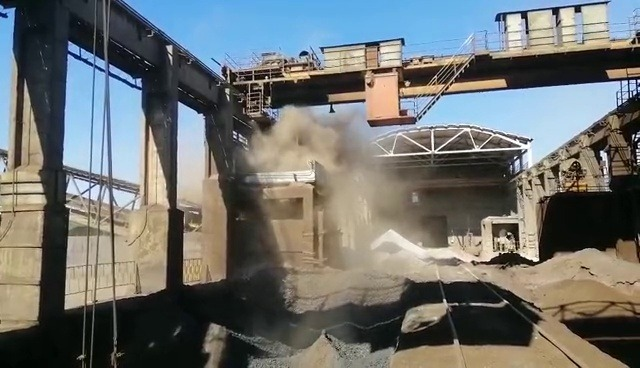dust: (212, 105, 466, 299)
